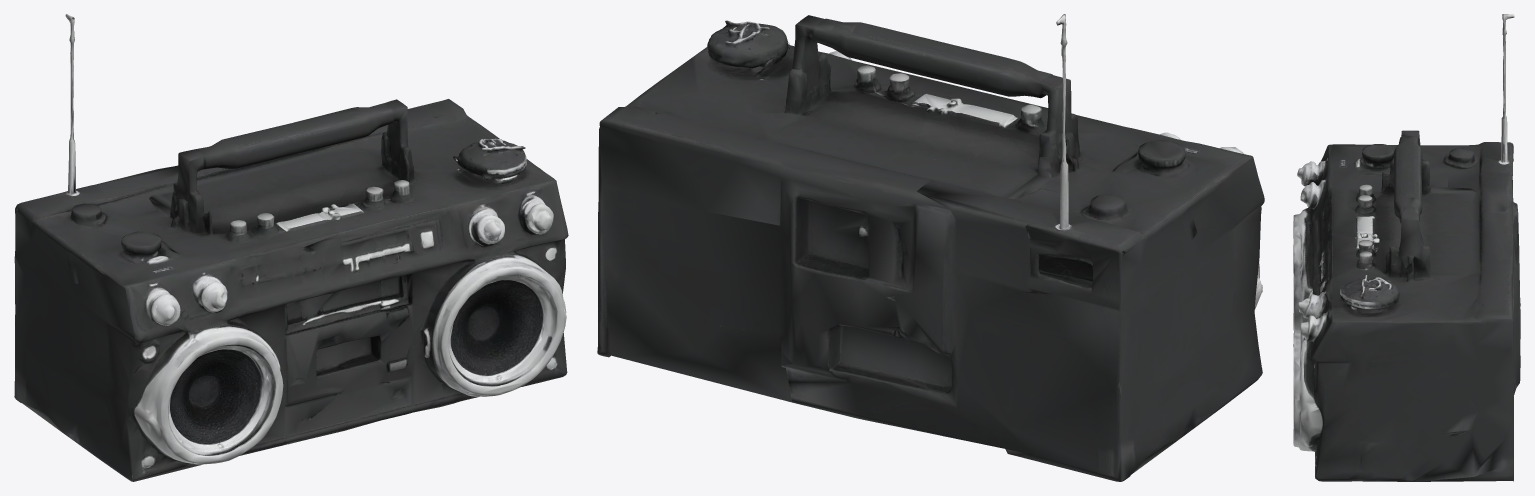
File: boombox.glb
3 views of the same model, side by side, from view 1: azimuth 30°, elevation 25°; view 2: azimuth 150°, elevation 25°; view 3: azimuth 270°, elevation 25° (orthographic). The views are drawn at different scales.
Bounding box in the file's own units: 2 × 1.63 × 1.07.
Materials: 1 (1 with a texture image).
